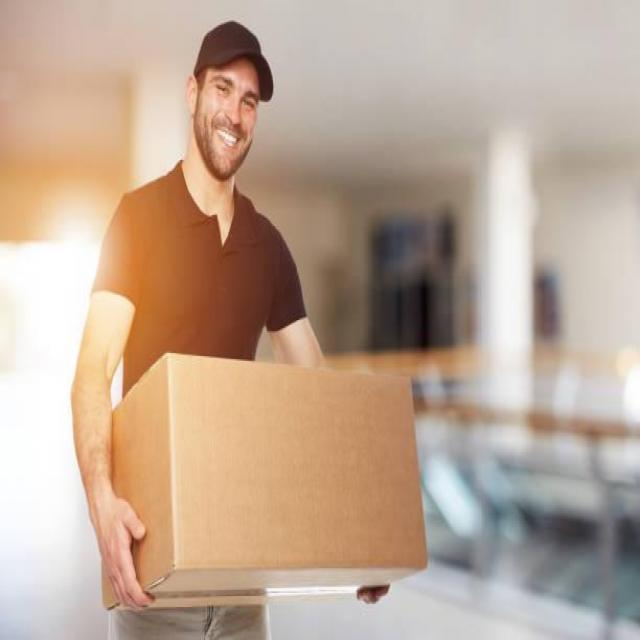box: (94, 345, 433, 619)
